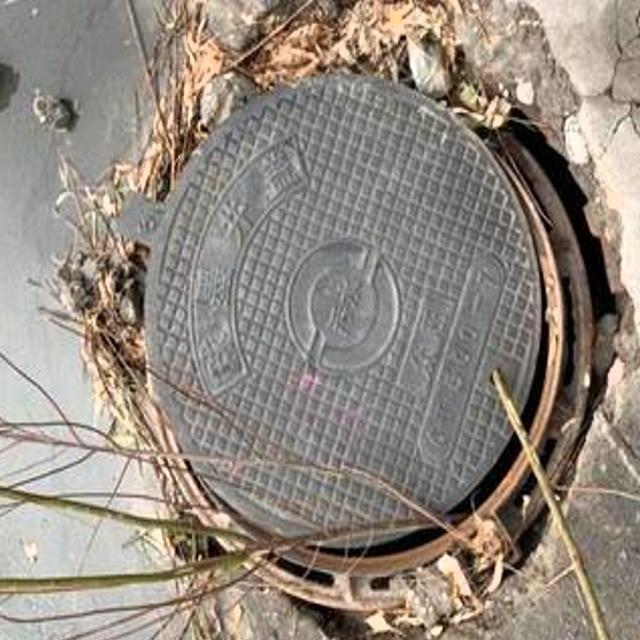circle: (36, 0, 640, 640)
